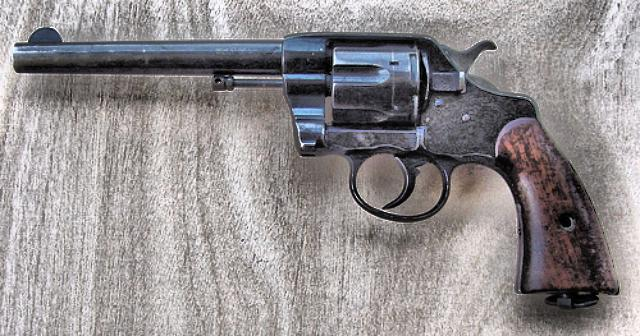pistol: (16, 23, 618, 295)
